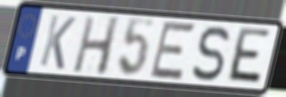5: (117, 18, 157, 80)
E: (147, 20, 198, 82), (223, 25, 273, 88)
H: (70, 15, 122, 78)
K: (37, 13, 78, 72)
S: (190, 25, 232, 84)
